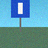sign: (11, 0, 30, 32)
